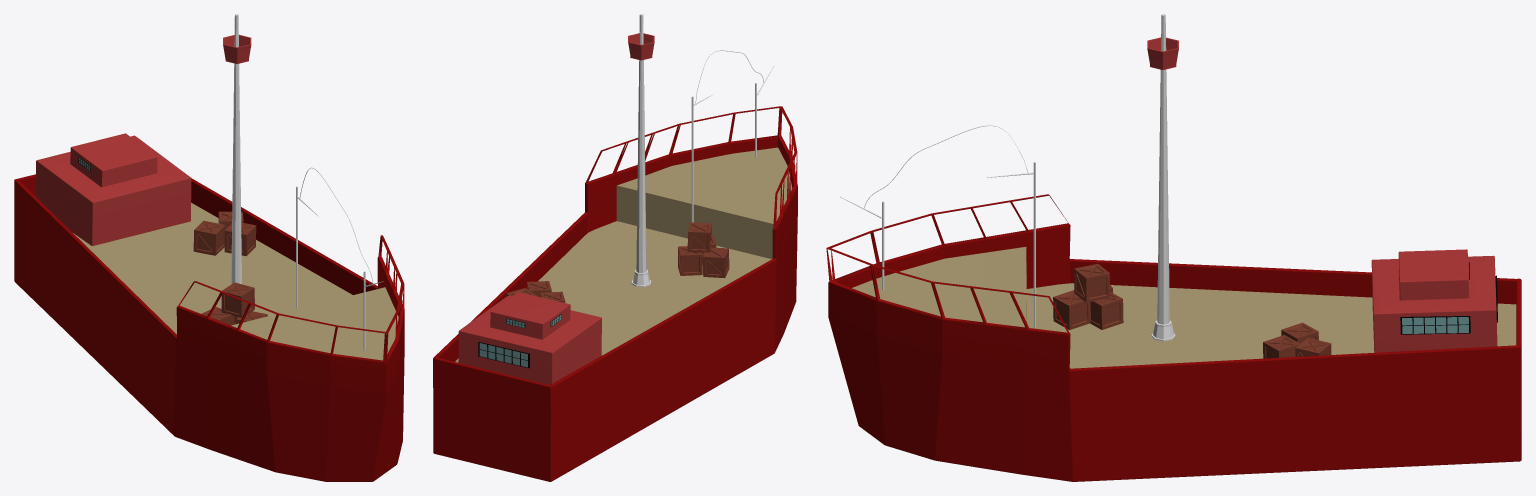
Rendered from Red Lench.fbx.
The picture shows the model from 3 angles, left to right: view 1: azimuth 30°, elevation 25°; view 2: azimuth 150°, elevation 25°; view 3: azimuth 270°, elevation 25°; orthographic projection. The views are drawn at different scales.
Visible parts, largest first — view 1: pasted__pPlane5, pasted__pPlane6, polySurface30, group3_pasted__pCylinder1, pasted__polySurface46, pasted__polySurface40; view 2: pasted__pPlane5, pasted__pPlane6, polySurface30, group3_pasted__pCylinder1, pasted__polySurface40, polySurface40, pasted__polySurface46; view 3: pasted__pPlane5, pasted__pPlane6, polySurface30, group3_pasted__pCylinder1, pasted__polySurface40, pasted__polySurface46, polySurface33.
Part boxes in pixels (<box>): pasted__pPlane5: <box>14,174,404,481</box>; pasted__pPlane6: <box>73,202,398,360</box>; polySurface30: <box>35,133,191,245</box>; group3_pasted__pCylinder1: <box>223,14,251,284</box>; pasted__polySurface46: <box>193,211,256,256</box>; pasted__polySurface40: <box>201,282,267,325</box>; pasted__pPlane5: <box>433,106,797,481</box>; pasted__pPlane6: <box>455,147,792,362</box>; polySurface30: <box>458,292,601,384</box>; group3_pasted__pCylinder1: <box>628,14,654,286</box>; pasted__polySurface40: <box>678,222,729,277</box>; polySurface40: <box>478,342,529,368</box>; pasted__polySurface46: <box>506,281,565,302</box>; pasted__pPlane5: <box>826,194,1521,481</box>; pasted__pPlane6: <box>852,247,1516,368</box>; polySurface30: <box>1371,249,1497,352</box>; group3_pasted__pCylinder1: <box>1147,14,1178,341</box>; pasted__polySurface40: <box>1053,263,1123,329</box>; pasted__polySurface46: <box>1263,322,1331,358</box>; polySurface33: <box>1400,316,1470,334</box>.
Size of what is drawn, in the model's own units: 5.08 by 8.71 by 13.3.
